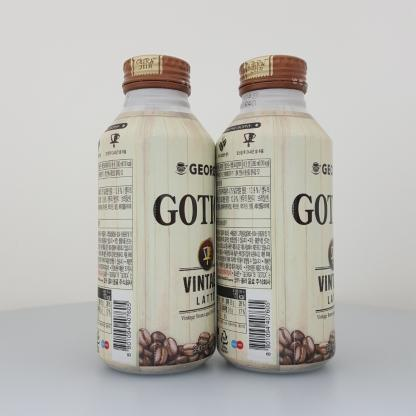----------------: (97, 54, 216, 375), (216, 55, 335, 374)
